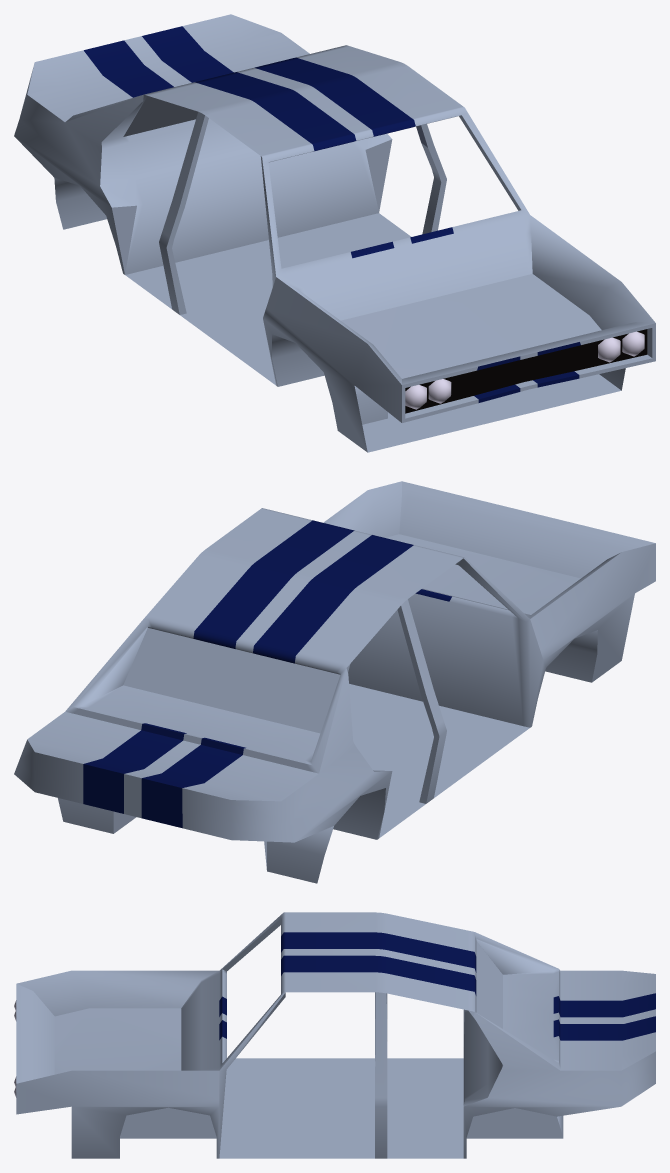
The model's file is car1Carcas.fbx.
3 renders of one model, top to bottom at view 1: azimuth 30°, elevation 25°; view 2: azimuth 150°, elevation 25°; view 3: azimuth 270°, elevation 25°, orthographic. The views are drawn at different scales.
Parts seen in each view (by area): view 1: Carcas; view 2: Carcas; view 3: Carcas.
Boxes of the visible parts, x1,y1,x2,y2 form: Carcas: [14, 14, 655, 452]; Carcas: [14, 481, 655, 883]; Carcas: [14, 912, 655, 1158].
Bounding box in the file's own units: 2.43 × 1.6 × 5.96.
